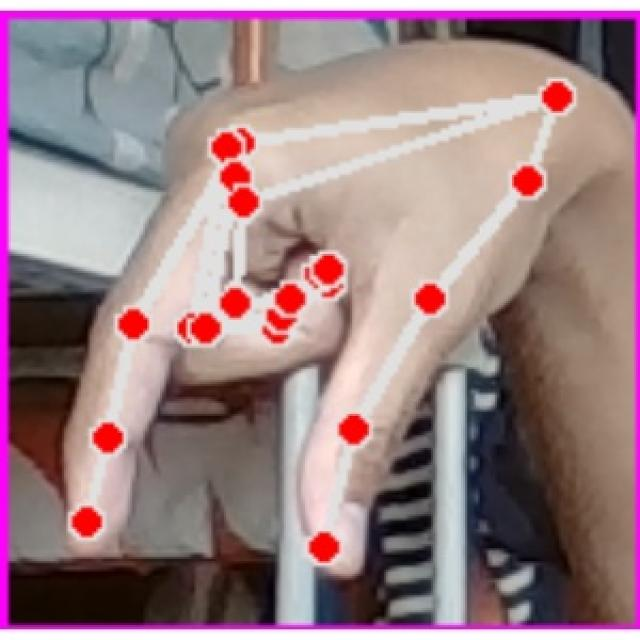Q: (54, 28, 610, 594)
